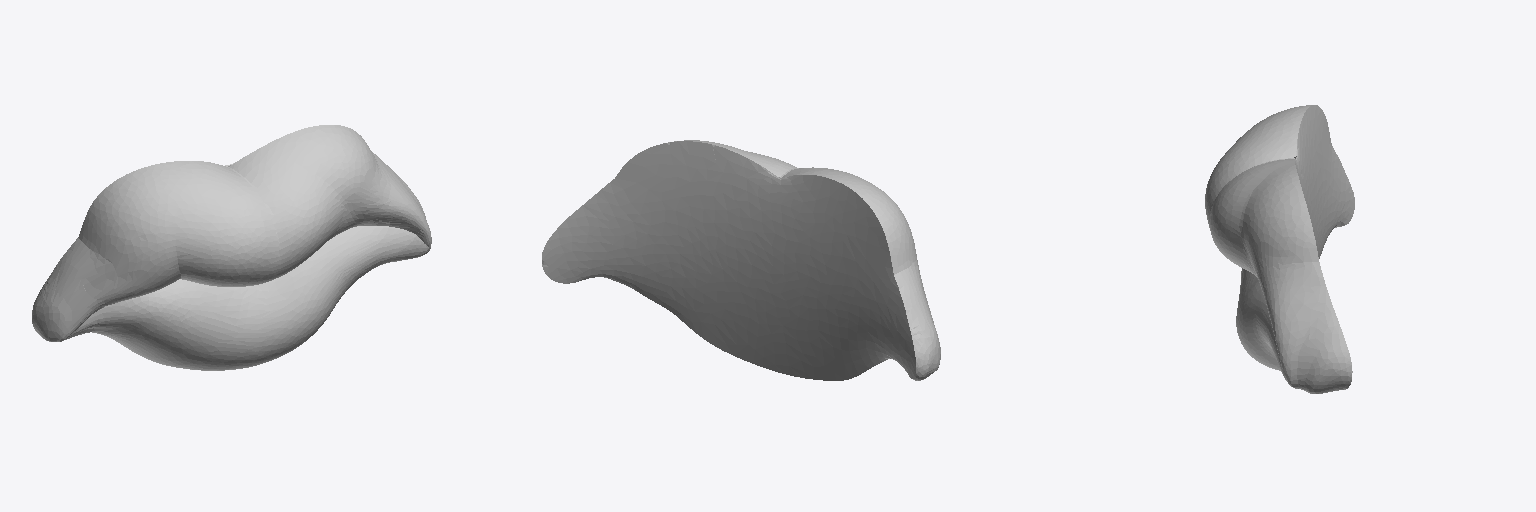
File: GEO_Lips_2 (UV).OBJ
3 views of the same model, side by side, from view 1: azimuth 30°, elevation 25°; view 2: azimuth 150°, elevation 25°; view 3: azimuth 270°, elevation 25° (orthographic).
Visible parts, largest first — view 1: Group1; view 2: Group1; view 3: Group1.
Part boxes in pixels (x1,y1,x2,y2): Group1: (32, 125, 431, 370); Group1: (542, 140, 940, 380); Group1: (1205, 105, 1354, 393).
Bounding box in the file's own units: 6.43 × 3.41 × 2.17.